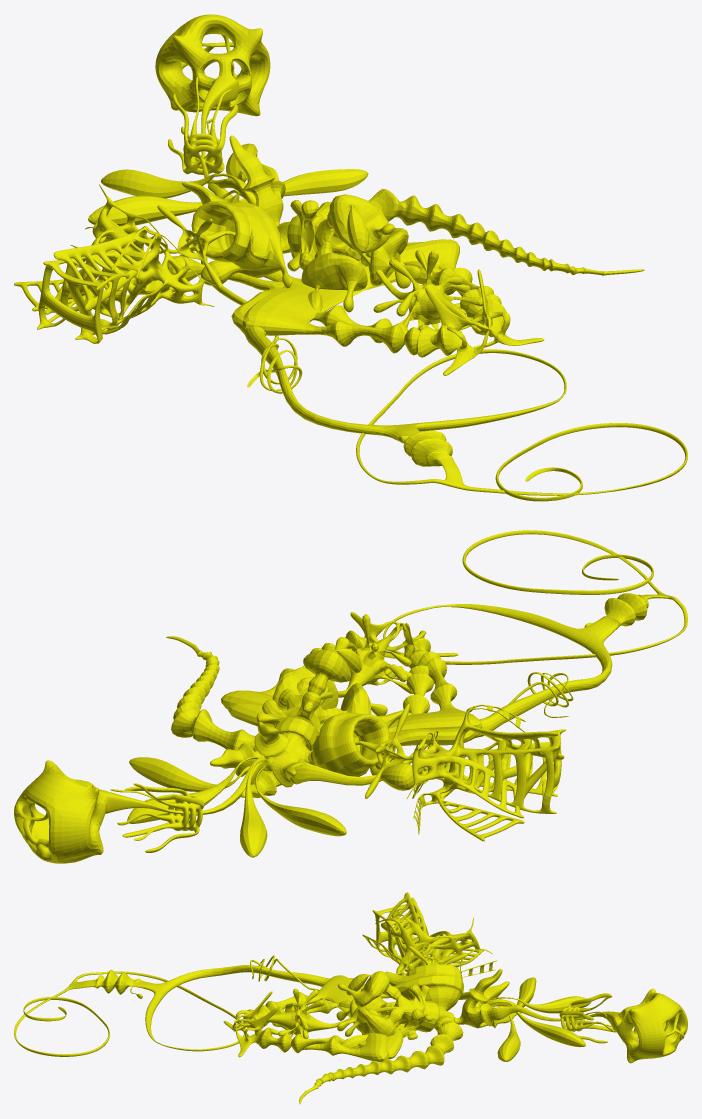
File: yeahright-on-ground.obj
3 views of the same model, one above another, from view 1: azimuth 30°, elevation 25°; view 2: azimuth 150°, elevation 25°; view 3: azimuth 270°, elevation 25° (orthographic). The views are drawn at different scales.
Parts seen in each view (by area): view 1: group; view 2: group; view 3: group.
Boxes of the visible parts, box(x1,y1,x2,y2) form: group: box(14, 14, 687, 501); group: box(14, 530, 687, 863); group: box(14, 892, 687, 1104).
Size of the model in its own units: 16.33 by 2.74 by 28.51.
